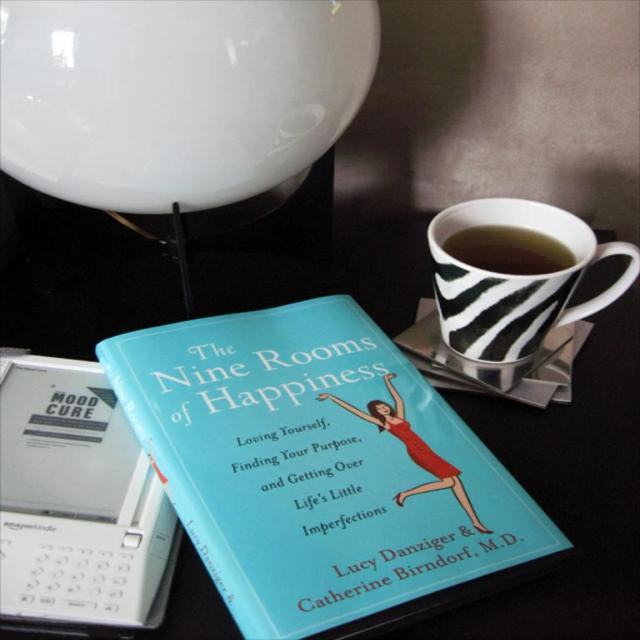Tea: (443, 222, 576, 274)
